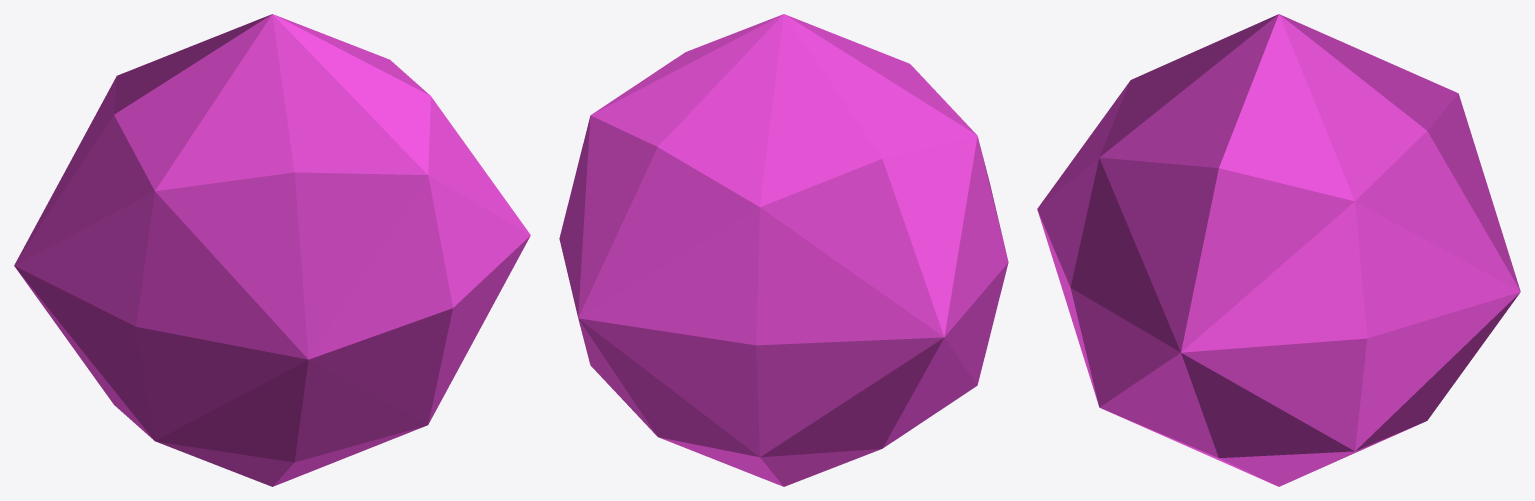
The picture shows the model from 3 angles, left to right: view 1: azimuth 30°, elevation 25°; view 2: azimuth 150°, elevation 25°; view 3: azimuth 270°, elevation 25°; orthographic projection.
Visible parts, largest first — view 1: body; view 2: body; view 3: body.
Boxes of the visible parts, box(x1,y1,x2,y2) form: body: box(14, 14, 530, 486); body: box(559, 14, 1008, 486); body: box(1037, 14, 1520, 486).
Size of the model in its own units: 0.6951 by 0.75 by 0.6951.
